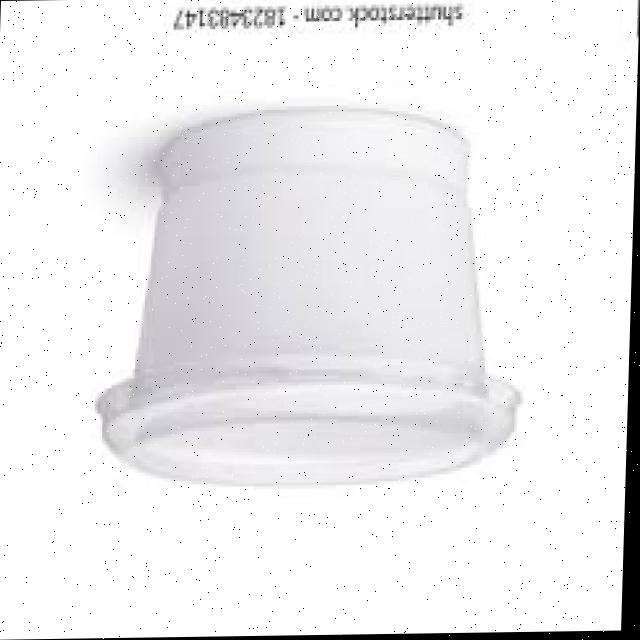disposable: (88, 95, 527, 482)
